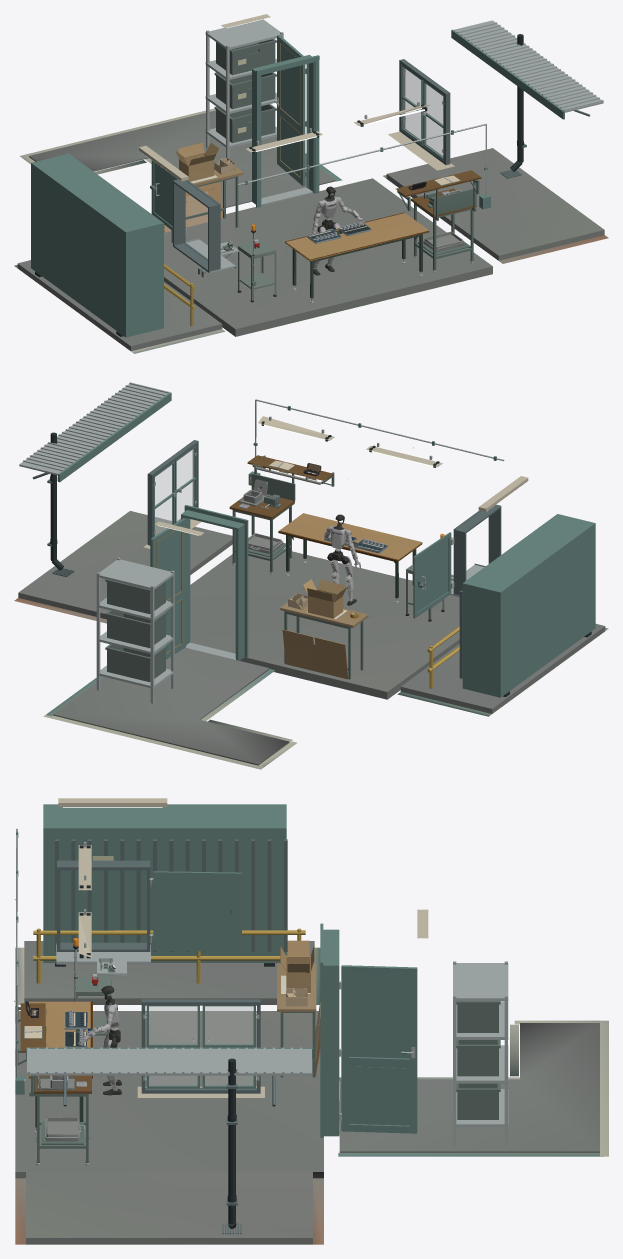
The model's file is mini.glb.
3 views of the same model, one above another, from view 1: azimuth 30°, elevation 25°; view 2: azimuth 150°, elevation 25°; view 3: azimuth 270°, elevation 25° (orthographic). The views are drawn at different scales.
Parts seen in each view (by area): view 1: part/ack_button/control_enclosure, part/ack_button/bezel, part/env_window_wall/glass_0, part/env_human_return/vise_fixed_casting, part/env_human_return/backsplash; view 2: part/ack_button/control_enclosure, part/ack_button/bezel, part/env_window_wall/glass_0, part/env_human_return/vise_fixed_casting, part/env_human_return/backsplash; view 3: part/ack_button/control_enclosure, part/ack_button/bezel, part/env_window_wall/glass_0, part/env_human_return/vise_fixed_casting.
Boxes of the visible parts, x1,y1,x2,y2 form: part/ack_button/control_enclosure: [14, 14, 608, 353]; part/ack_button/bezel: [31, 19, 603, 337]; part/env_window_wall/glass_0: [403, 67, 442, 156]; part/env_human_return/vise_fixed_casting: [397, 180, 479, 270]; part/env_human_return/backsplash: [418, 180, 476, 255]; part/ack_button/control_enclosure: [14, 416, 608, 769]; part/ack_button/bezel: [19, 382, 595, 703]; part/env_window_wall/glass_0: [155, 449, 193, 535]; part/env_human_return/vise_fixed_casting: [232, 455, 334, 572]; part/env_human_return/backsplash: [248, 465, 295, 557]; part/ack_button/control_enclosure: [14, 798, 608, 1244]; part/ack_button/bezel: [15, 804, 508, 1234]; part/env_window_wall/glass_0: [149, 1006, 252, 1085]; part/env_human_return/vise_fixed_casting: [15, 1005, 89, 1162].
Size of the model in its own units: 7.75 by 2.55 by 6.55.
Materials: 11 (11 with a texture image).
